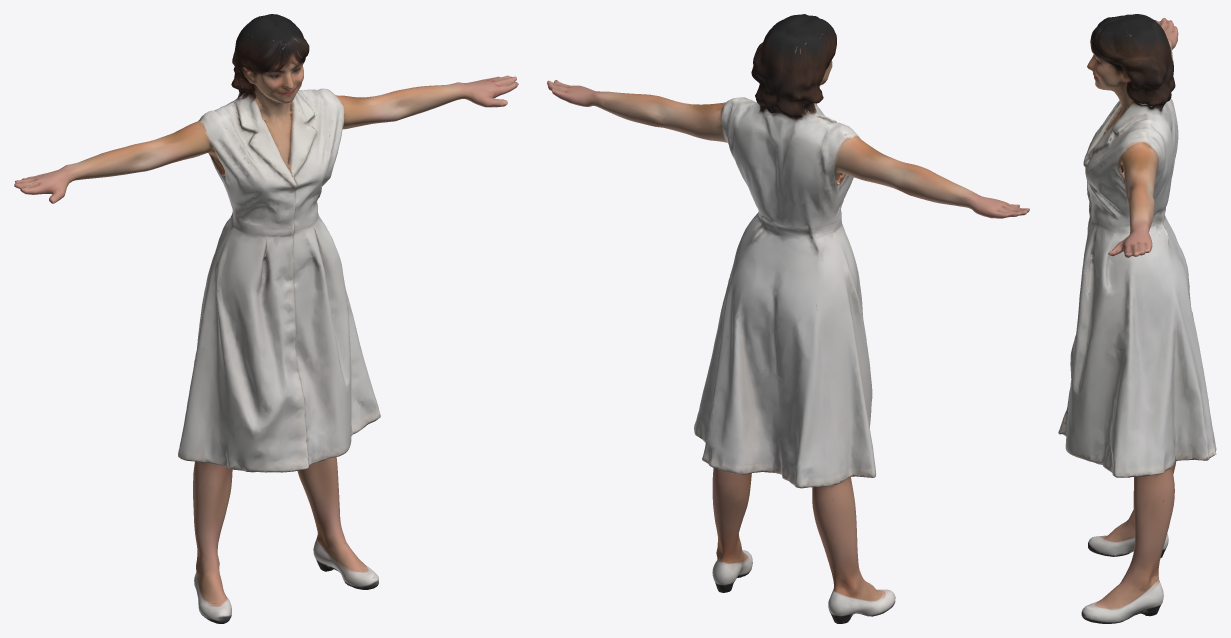
Rendered from Balance_in_White_0124081527_texture.fbx.
The picture shows the model from 3 angles, left to right: view 1: azimuth 30°, elevation 25°; view 2: azimuth 150°, elevation 25°; view 3: azimuth 270°, elevation 25°; orthographic projection. The views are drawn at different scales.
Visible parts, largest first — view 1: Mesh1.0; view 2: Mesh1.0; view 3: Mesh1.0.
Boxes of the visible parts, box(x1,y1,x2,y2) form: Mesh1.0: box(14, 14, 518, 623); Mesh1.0: box(547, 14, 1029, 623); Mesh1.0: box(1058, 14, 1216, 623).
Size of the model in its own units: 170 by 191 by 48.38.
Materials: 1 (1 with a texture image).
